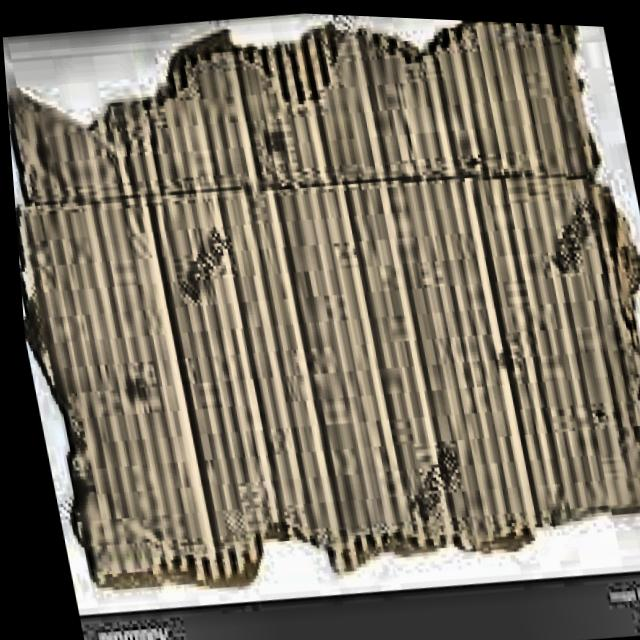Cardbox: (0, 0, 640, 626)
